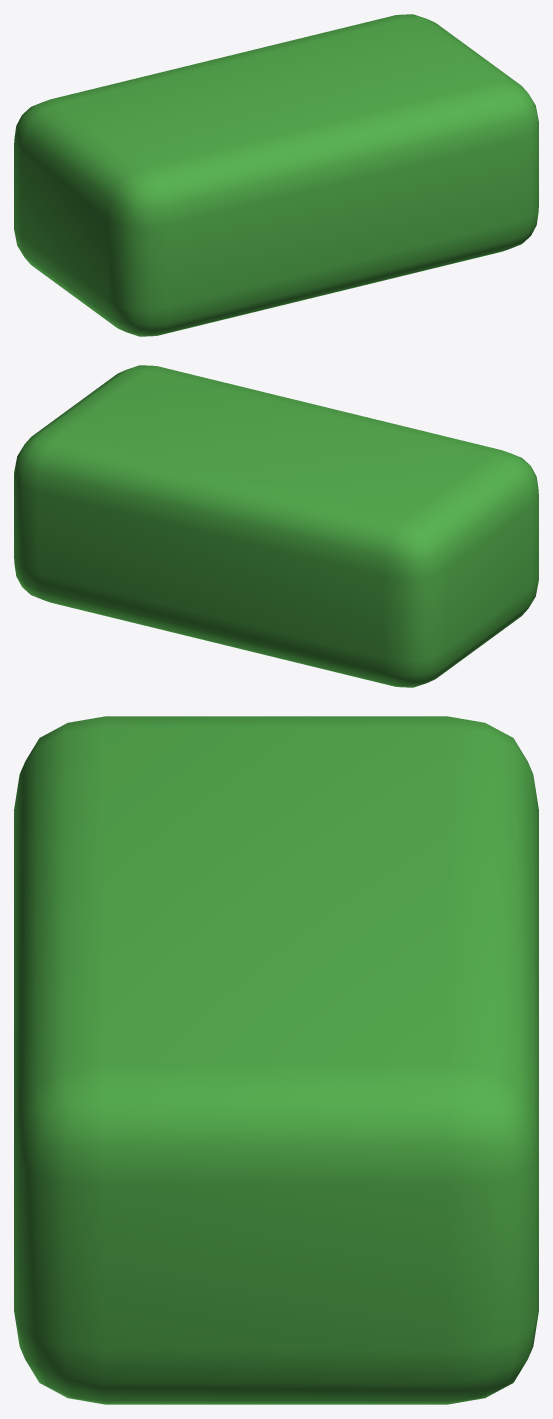
File: ground_type_08.FBX
The picture shows the model from 3 angles, top to bottom: view 1: azimuth 30°, elevation 25°; view 2: azimuth 150°, elevation 25°; view 3: azimuth 270°, elevation 25°; orthographic projection. The views are drawn at different scales.
Visible parts, largest first — view 1: ground_type_08; view 2: ground_type_08; view 3: ground_type_08.
Boxes of the visible parts, bbox=[...] form: ground_type_08: bbox=[14, 14, 538, 336]; ground_type_08: bbox=[14, 365, 538, 687]; ground_type_08: bbox=[14, 716, 538, 1404].
Bounding box in the file's own units: 1080 × 580 × 400.
Materials: 1 (1 with a texture image).
